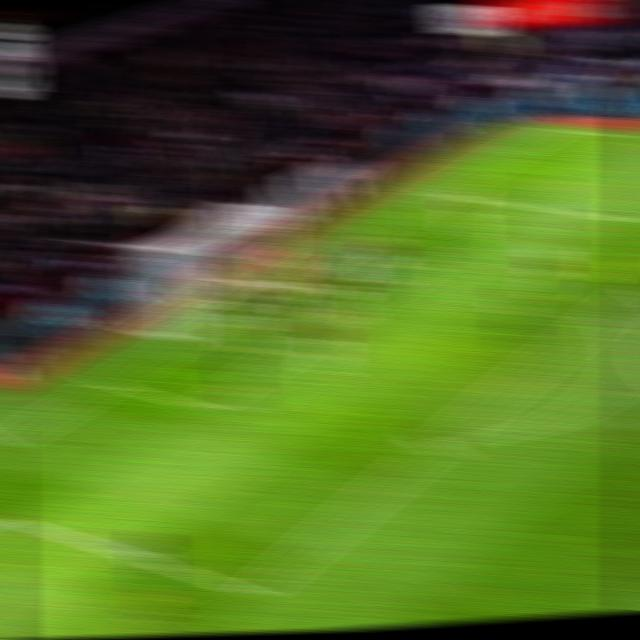bigarea_bottom_inner: (229, 573, 275, 613)
bigarea_top_outter: (423, 185, 457, 203)
bottom_arc_area_intersection: (409, 422, 462, 467)
corner: (535, 123, 567, 135)
smallarea_bottom_inner: (182, 393, 220, 420)
smallarea_bottom_outter: (87, 368, 132, 400)
smallarea_top_inner: (401, 257, 435, 282)
smallarea_top_outter: (315, 244, 352, 266)
top_arc_area_intersection: (582, 304, 623, 331)
